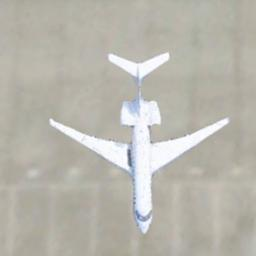Airplane: (48, 50, 230, 234)
